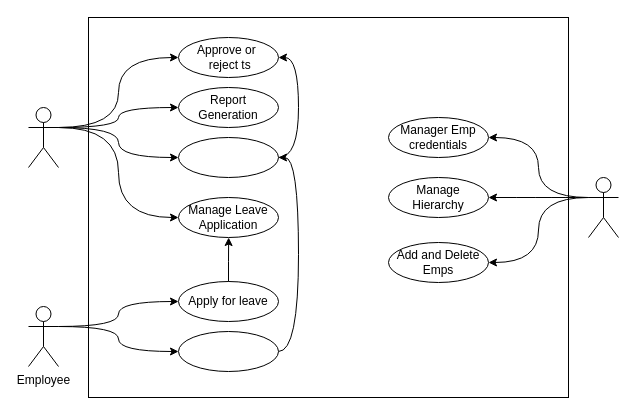
This 638x415 diagram has some shape labels left out. The centre of each missing label's shape, as x and y in pixels:
"Access and review ts" goes at (228,157).
"Admin" goes at (603,207).
"Manager" goes at (43,137).
"Submit ts" goes at (228,351).
